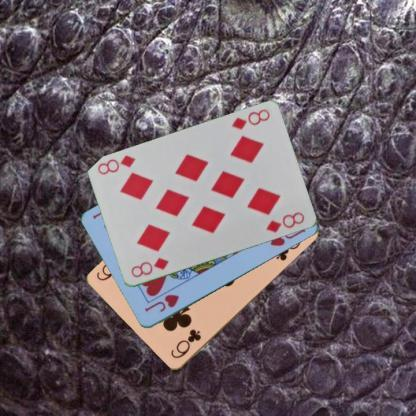6c: (168, 326, 203, 360)
8d: (128, 255, 170, 280), (229, 107, 271, 132)
Jh: (142, 292, 180, 314)
